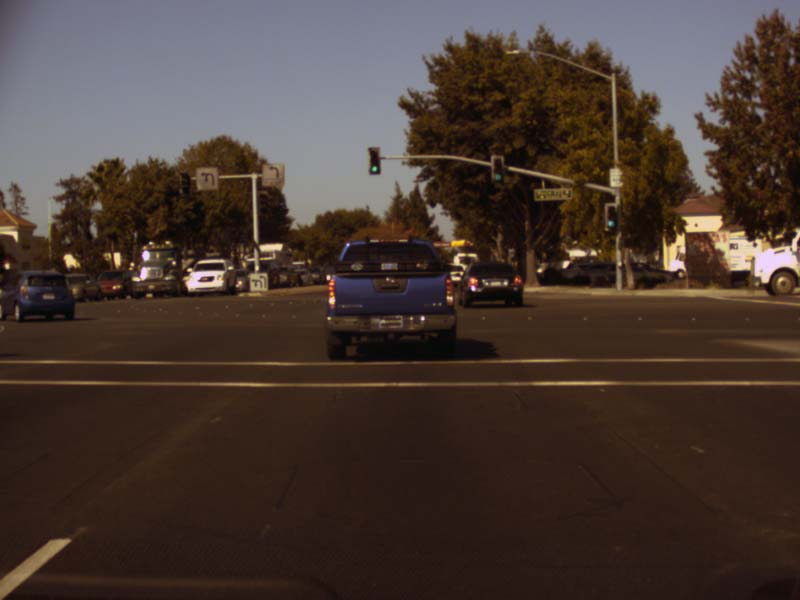Green: (367, 147, 381, 174), (606, 206, 617, 229), (494, 159, 503, 182)
